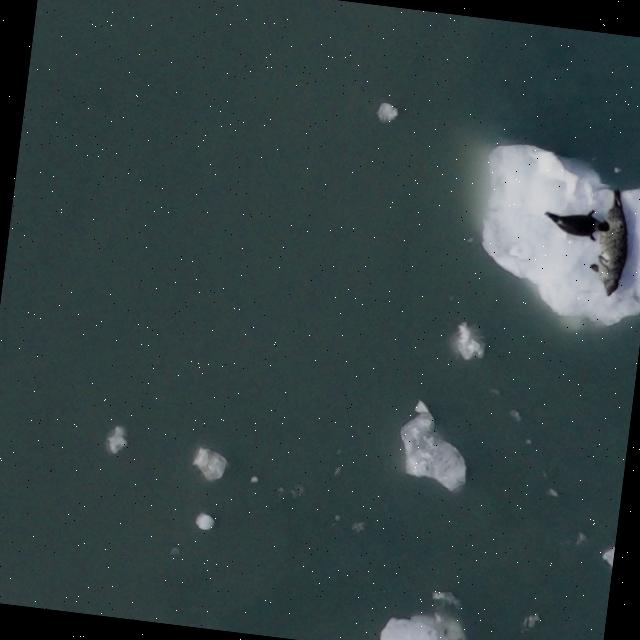seal: (580, 183, 639, 303), (538, 201, 615, 244)
